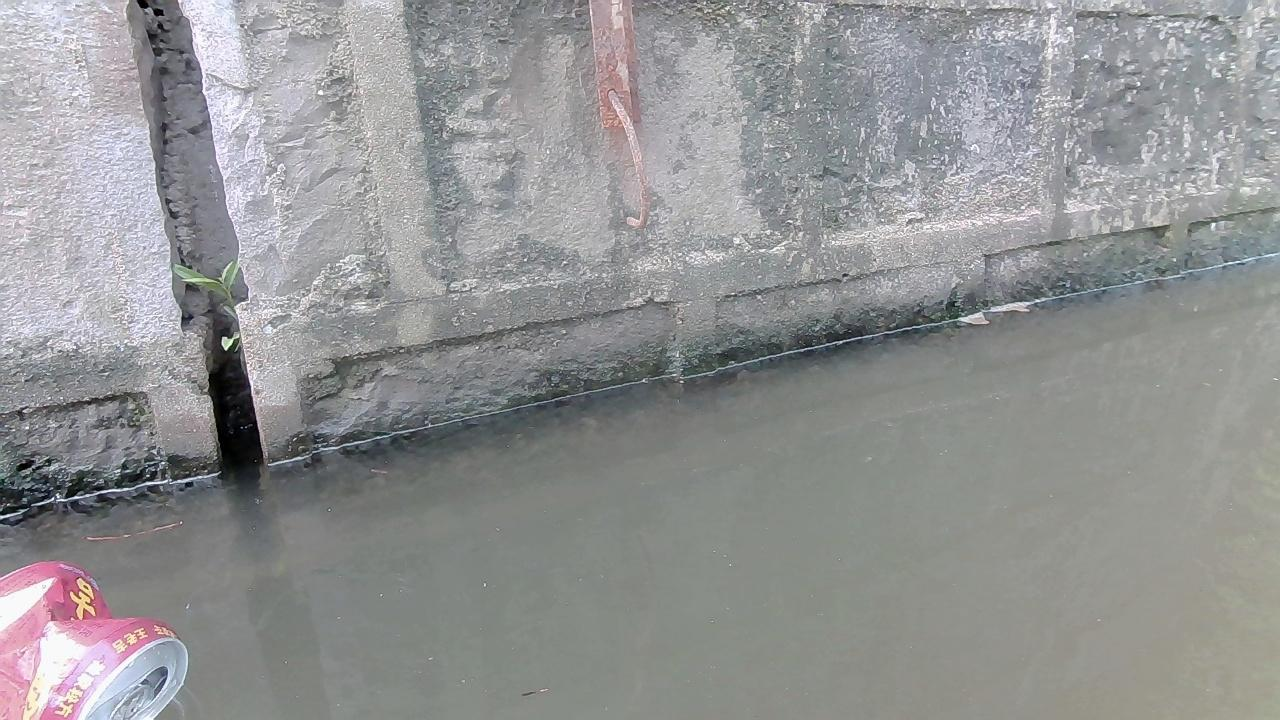Metal: (1, 556, 190, 719)
